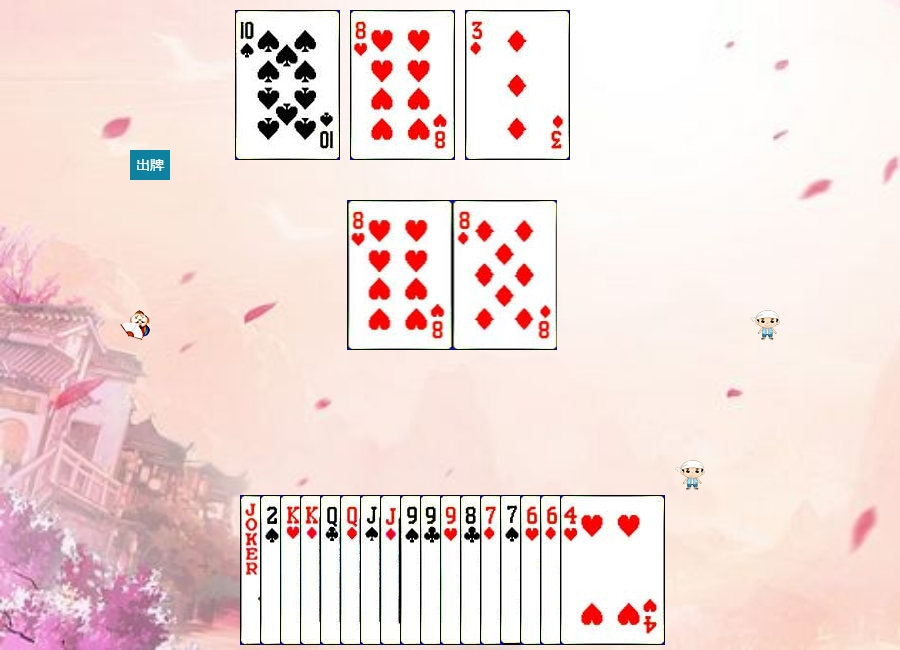10~4: (235, 10, 340, 160)
11~1: (380, 495, 485, 645)
11~4: (360, 495, 465, 645)
12~1: (340, 495, 445, 645)
12~2: (320, 495, 425, 645)
13~1: (300, 495, 405, 645)
13~3: (280, 495, 385, 645)
15~4: (260, 495, 365, 645)
18~4: (240, 495, 345, 645)
3~1: (465, 10, 570, 160)
4~3: (560, 495, 665, 645)
6~1: (540, 495, 645, 645)
6~3: (520, 495, 625, 645)
7~1: (480, 495, 585, 645)
7~4: (500, 495, 605, 645)
8~1: (453, 200, 558, 350)
8~2: (460, 495, 565, 645)
8~3: (350, 10, 455, 160), (348, 200, 453, 350)
9~2: (420, 495, 525, 645)
9~3: (440, 495, 545, 645)
9~4: (400, 495, 505, 645)
